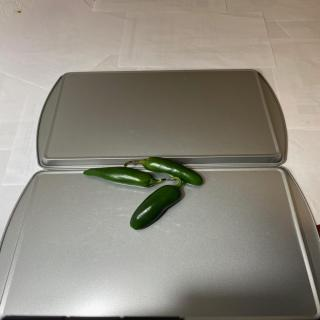Chilli: (130, 176, 182, 230), (124, 156, 204, 186), (82, 166, 166, 188)
